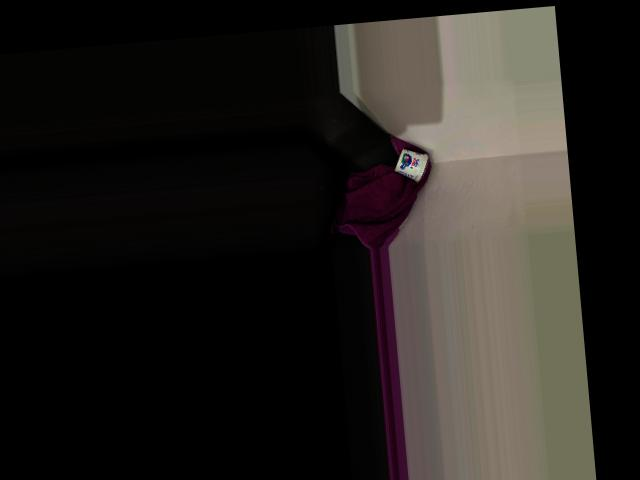cotage: (394, 147, 432, 182)
